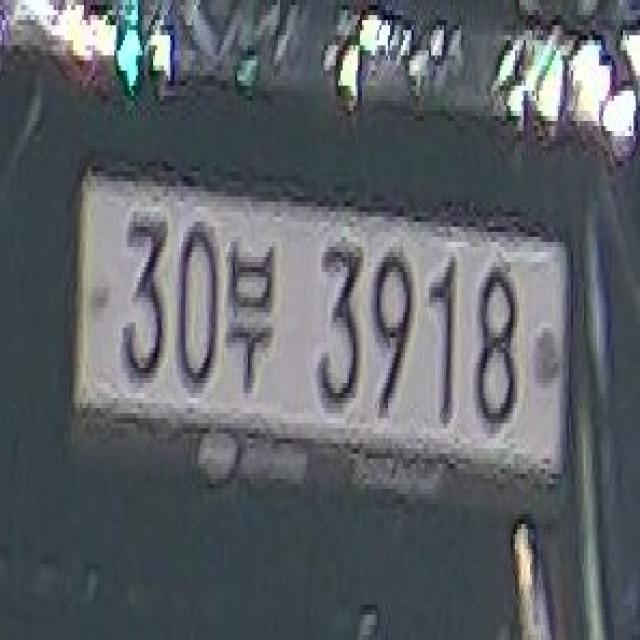0: (174, 217, 216, 393)
1: (429, 247, 459, 428)
3: (317, 232, 364, 413), (123, 207, 168, 393)
8: (474, 262, 517, 433)
9: (368, 242, 412, 418)
bu: (226, 237, 276, 398)
license_plate: (67, 161, 573, 489)
